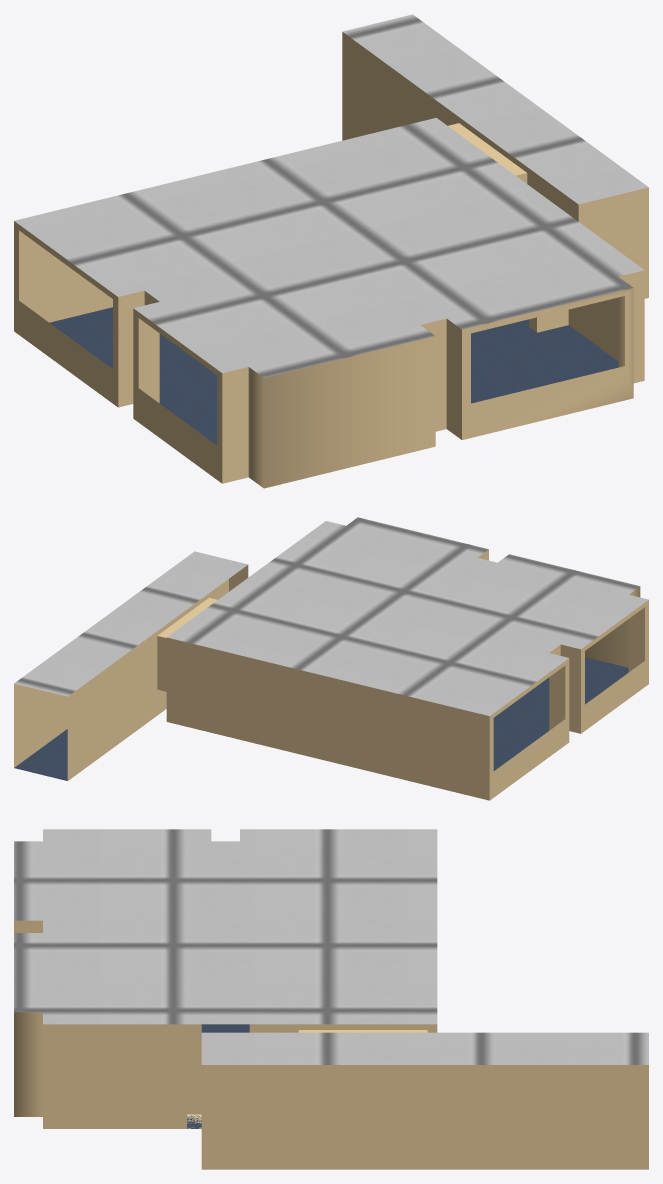
File: Room.FBX
3 renders of one model, top to bottom at view 1: azimuth 30°, elevation 25°; view 2: azimuth 150°, elevation 25°; view 3: azimuth 270°, elevation 25°, orthographic. The views are drawn at different scales.
Visible parts, largest first — view 1: Box004; view 2: Box004; view 3: Box004.
Part boxes in pixels (x1,y1,x2,y2): Box004: (14,14,648,488); Box004: (14,517,648,800); Box004: (14,829,648,1169).
Bounding box in the file's own units: 1450 × 300 × 1650.
Materials: 3 (2 with a texture image).
